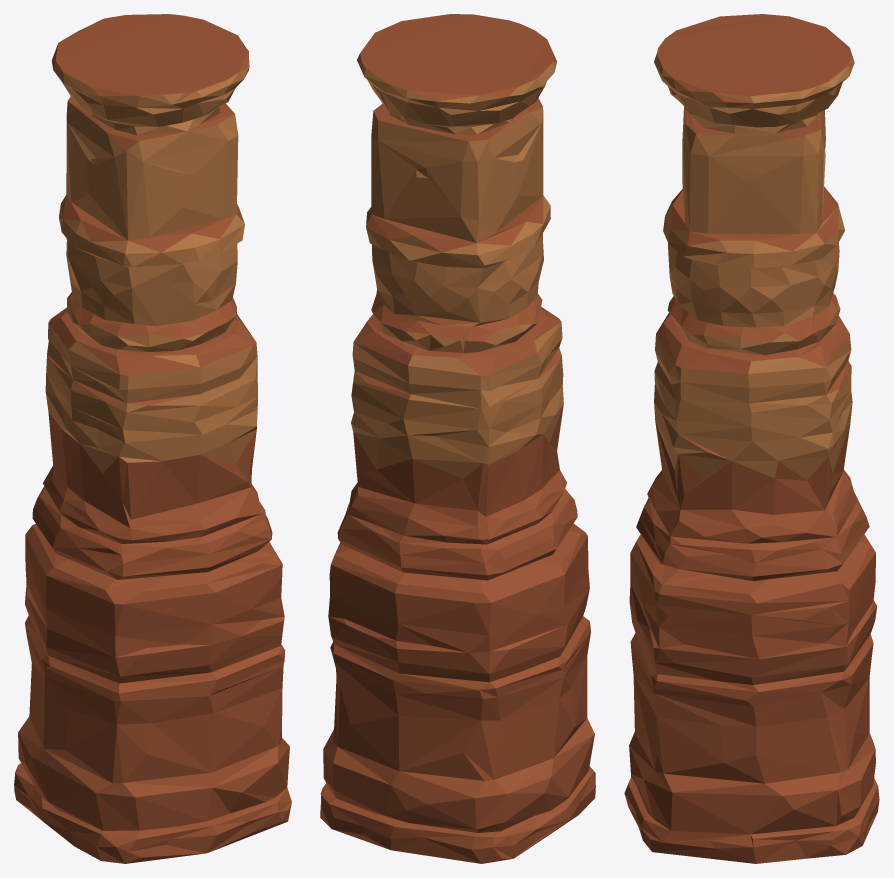
File: canyon-spire-1.glb
3 views of the same model, side by side, from view 1: azimuth 30°, elevation 25°; view 2: azimuth 150°, elevation 25°; view 3: azimuth 270°, elevation 25° (orthographic).
Visible parts, largest first — view 1: output_unwrapped; view 2: output_unwrapped; view 3: output_unwrapped.
Boxes of the visible parts, x1,y1,x2,y2 form: output_unwrapped: (14, 14, 291, 863); output_unwrapped: (320, 14, 595, 863); output_unwrapped: (624, 14, 879, 863).
Bounding box in the file's own units: 1.85 × 6 × 1.84.
